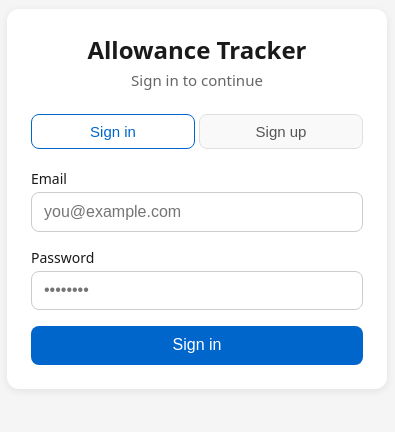
AuthScreen › shows validation error for invalid email
Type "notanemail" into the field with placeholder "you@example.com" at (197, 212), box x1=31 y1=192 x2=363 y2=232
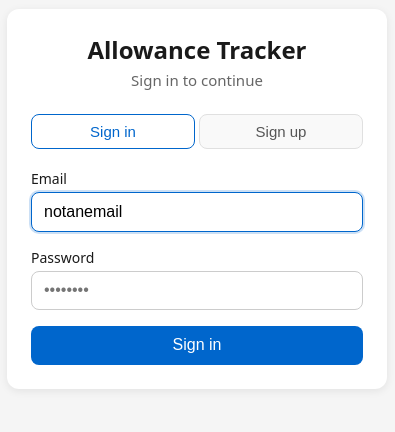
Type "password1" into the password field with placeholder "••••••••" at (197, 290), box x1=31 y1=271 x2=363 y2=310
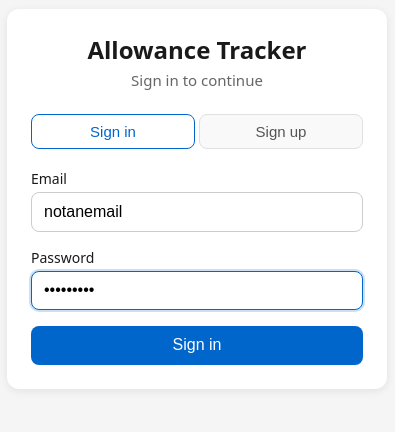
Click the button "Sign in" below "Password" at (197, 345), box x1=31 y1=326 x2=363 y2=365
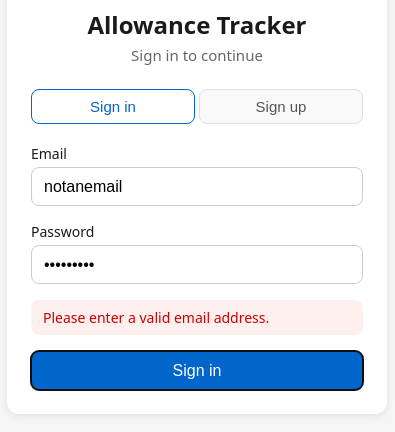
Now the message shows "valid email", box x1=43 y1=308 x2=269 y2=327
